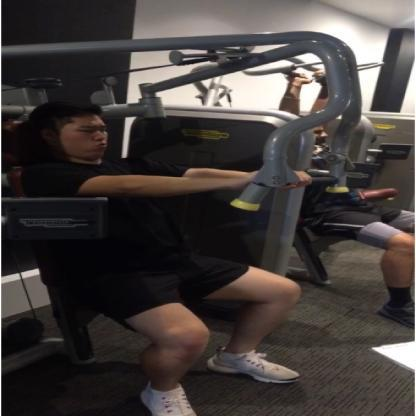Chest Press machine: (3, 17, 384, 416)
